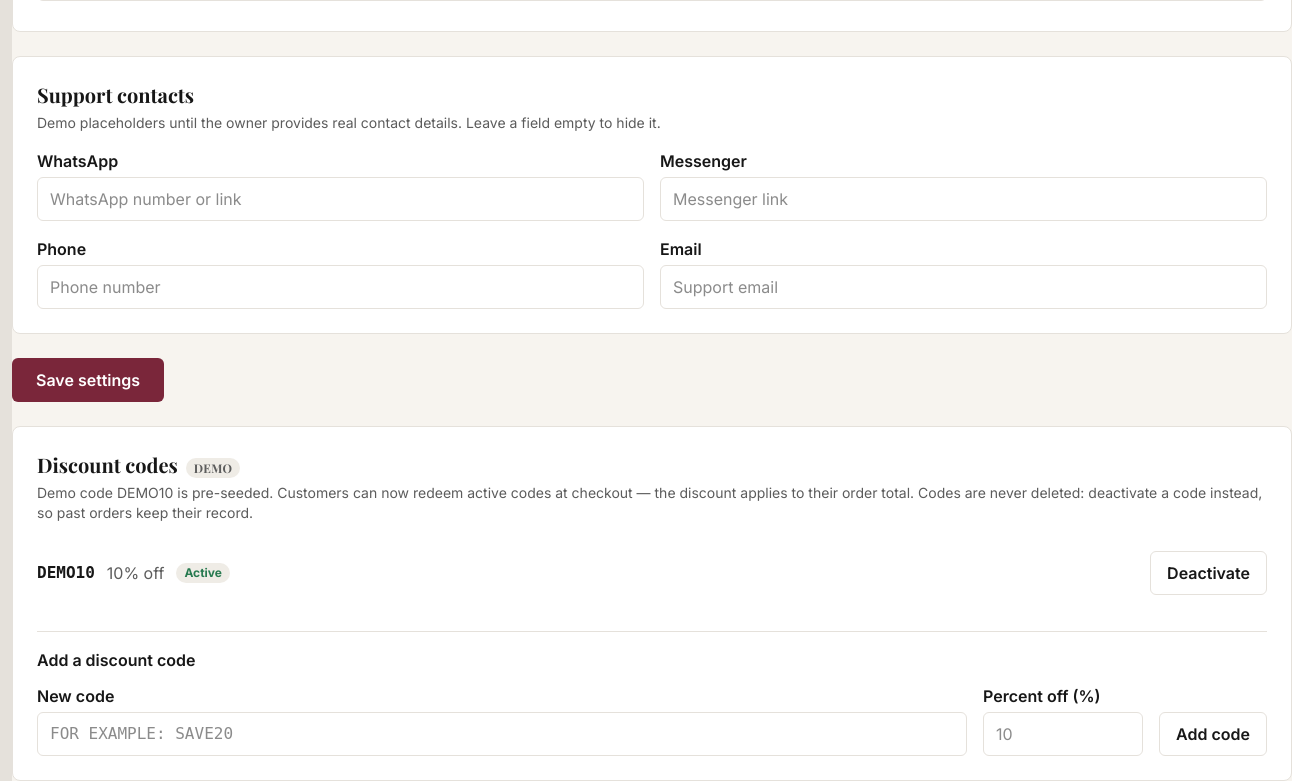
SettingsForm › submits a valid discount code
(page scrolled)
Type "SAVE20" into the field labelled "New code" at (502, 734), box [37,712,967,756]
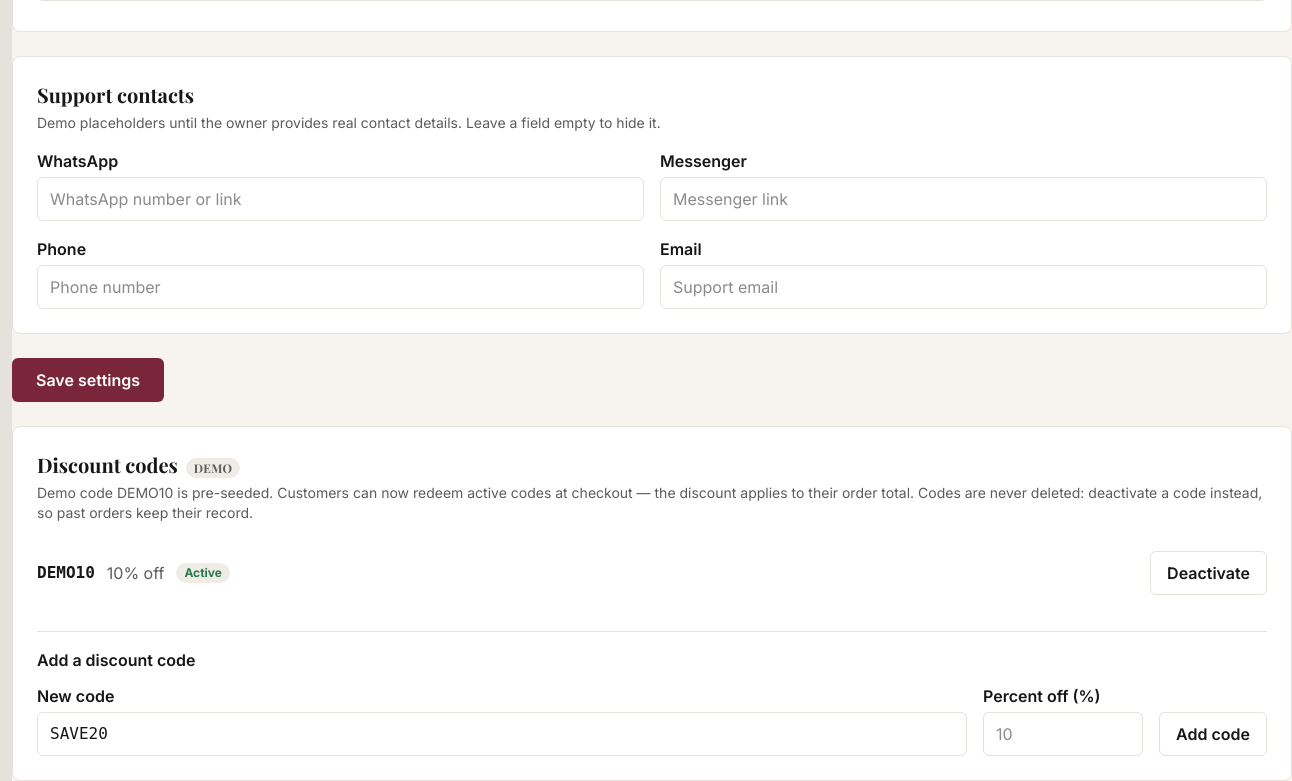
Type "20" into the number field labelled "Percent off (%)" at (1063, 734), box [983,712,1143,756]
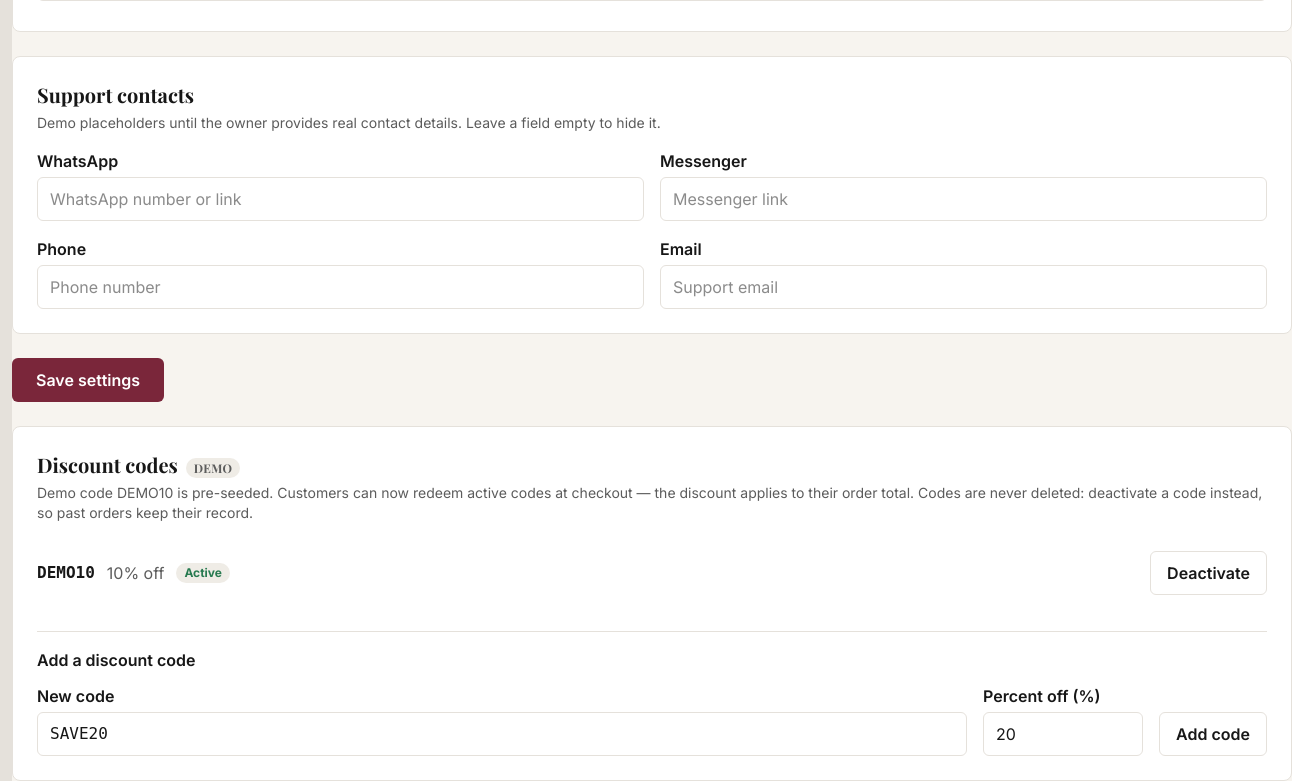
Click the button "Add code" at (1213, 734), box [1159,712,1267,756]
(page scrolled)
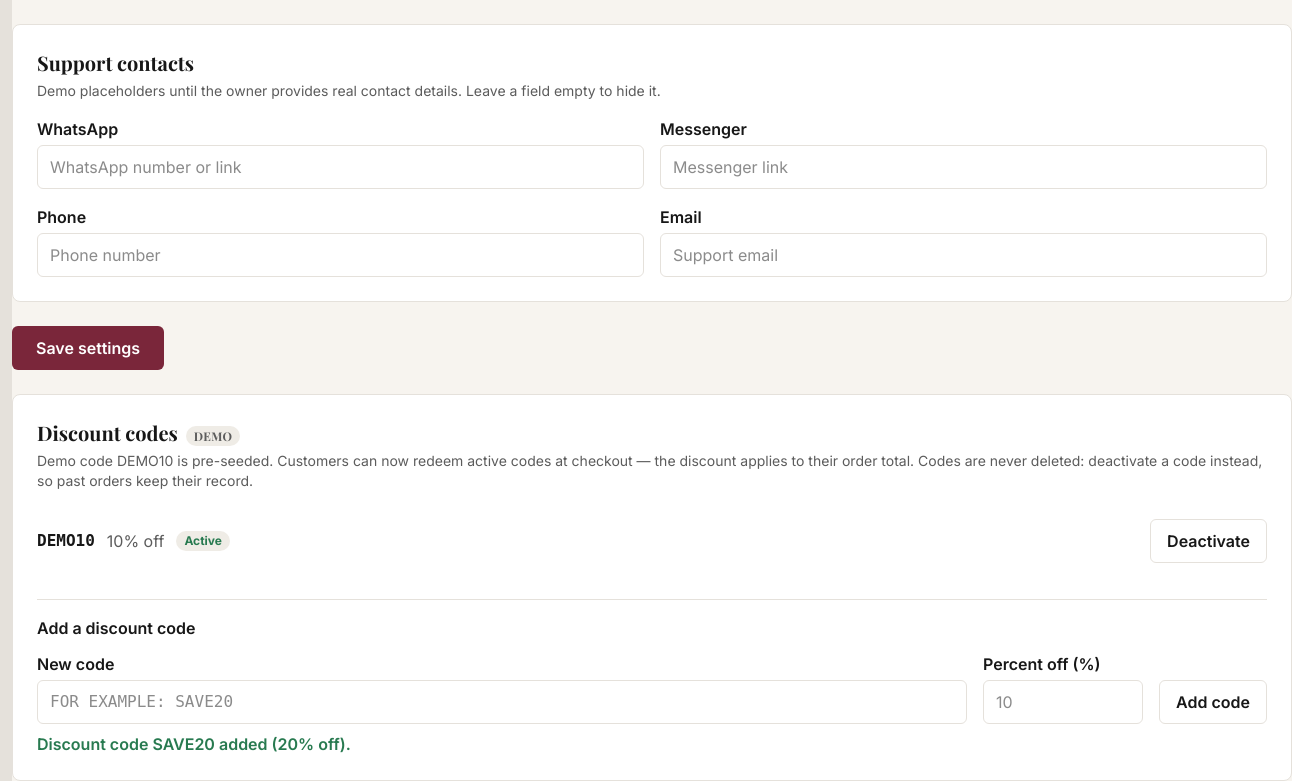
Check: the text "Discount code SAVE20 added (20% off)." is shown, box [37,734,351,754]
